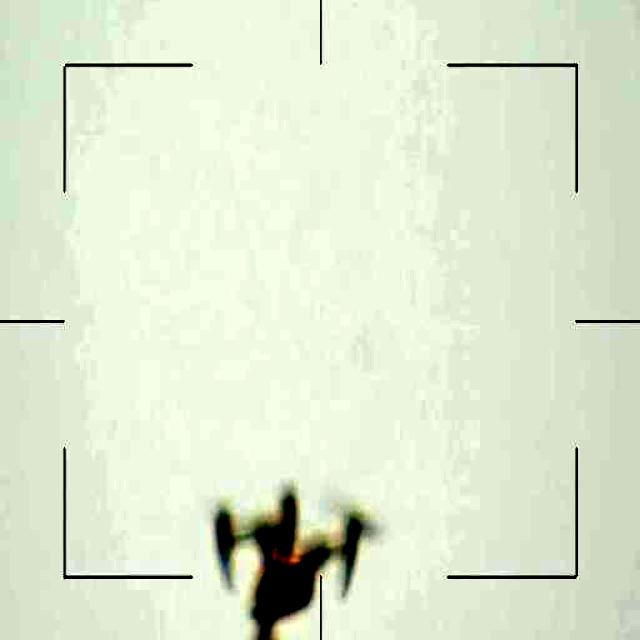bird: (206, 476, 386, 640)
